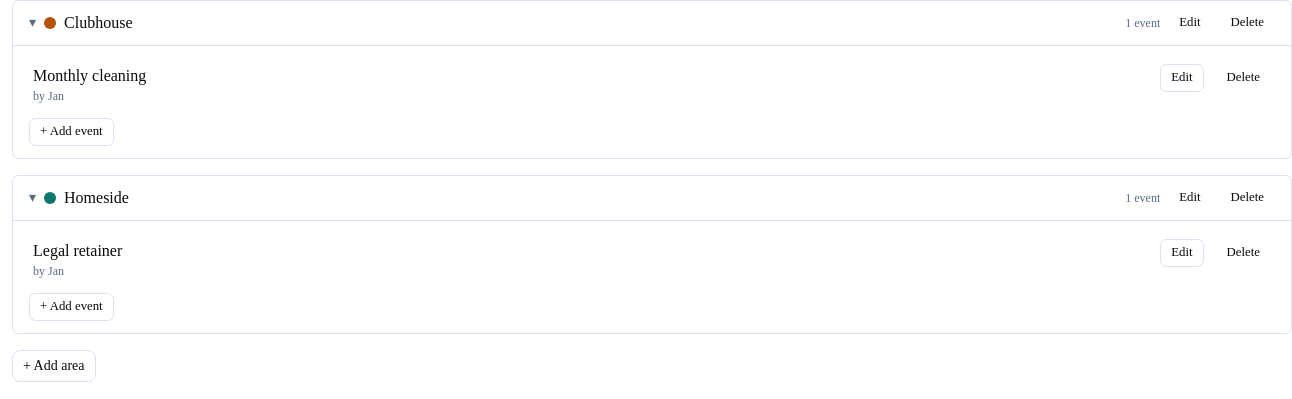
CalendarAdmin › collapses a section to hide its events
Expected: the text "Monthly cleaning" is shown, [33,67,146,84]
Click the button named "collapse clubhouse".
click(32, 23)  # box [29,13,36,33]
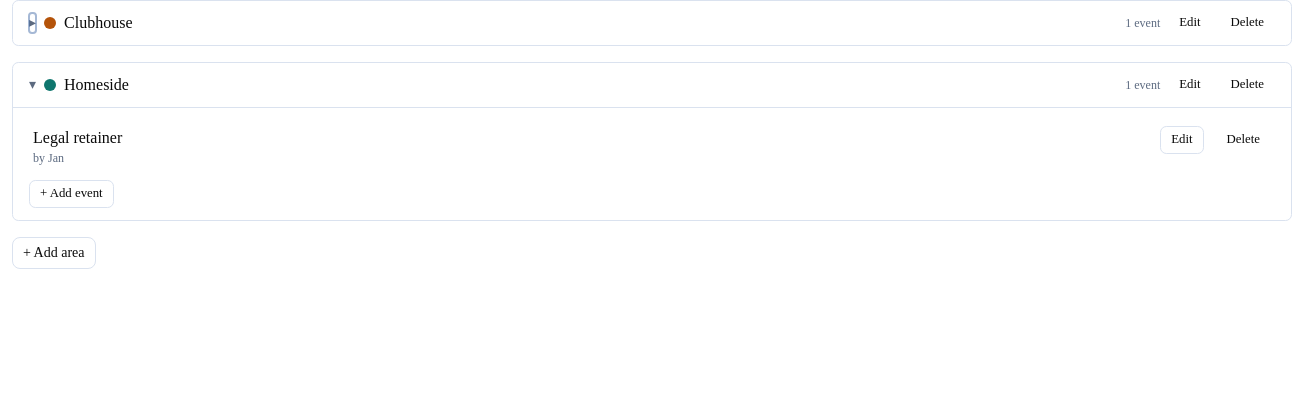
Now the text "Monthly cleaning" is gone
